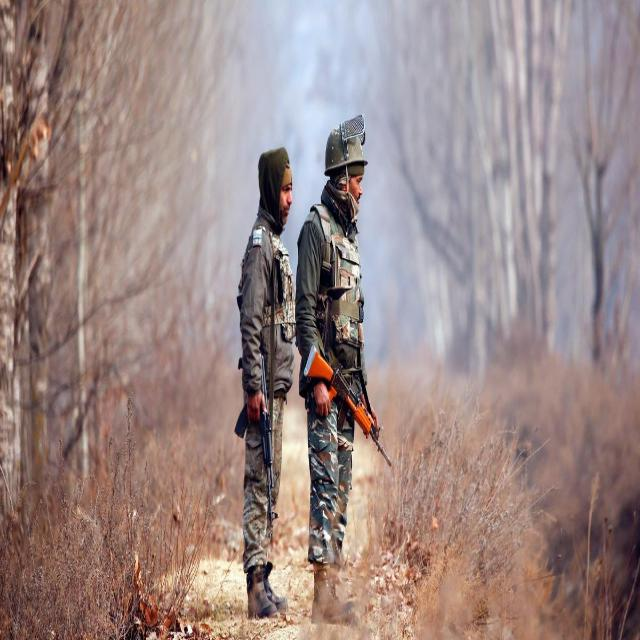Forest: (2, 0, 640, 638)
Militant: (286, 83, 390, 640), (231, 119, 298, 640)
